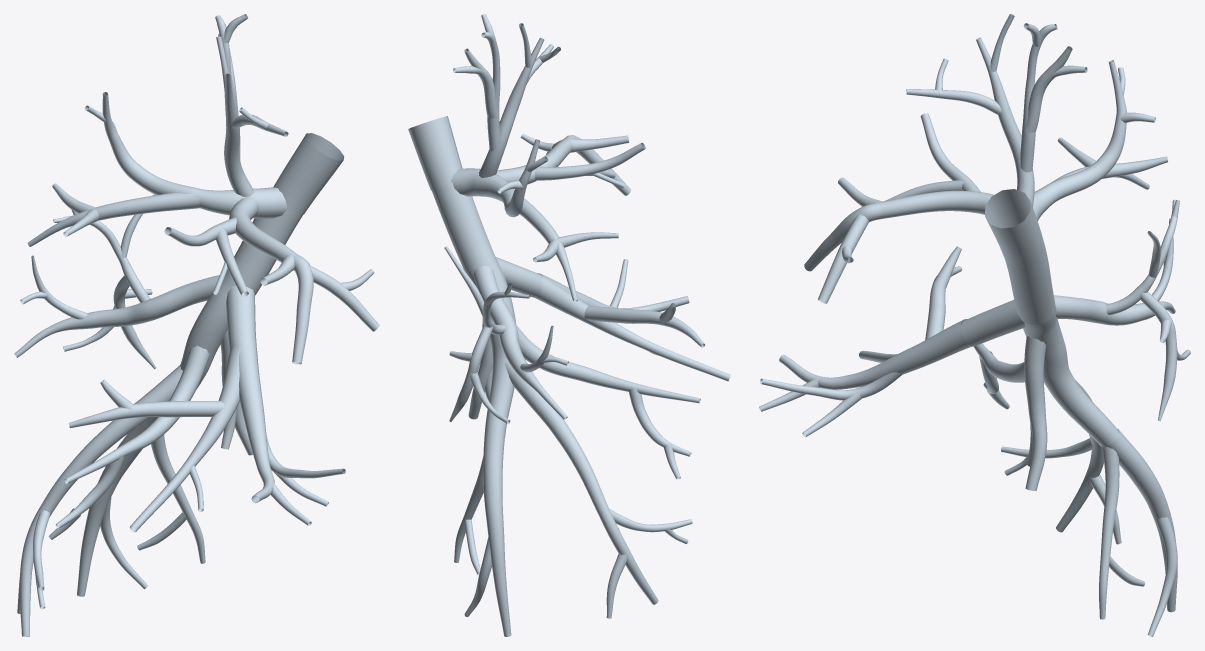
File: visceras-right-main-bronchus.glb
3 renders of one model, left to right at view 1: azimuth 30°, elevation 25°; view 2: azimuth 150°, elevation 25°; view 3: azimuth 270°, elevation 25°, orthographic. The views are drawn at different scales.
Parts seen in each view (by area): view 1: Superior segmental bronchus of right lung (BVI), Anterior segmental bronchus of right lung (BIII), Posterior segmental bronchus of right lung (BII), Lateral segmental bronchus of right lung (BIV), Lateral basal segmental bronchus of right lung (BIX), Posterior basal segmental bronchus of right lung (BX), Medial segmental bronchus of right lung (BV), Anterior basal segmental bronchus of right lung (BVIII), Apical segmental bronchus of right lung (BI), Right main bronchus, Intermediate bronchus.r, Right inferior lobar bronchus (+3 smaller); view 2: Superior segmental bronchus of right lung (BVI), Lateral basal segmental bronchus of right lung (BIX), Posterior basal segmental bronchus of right lung (BX), Lateral segmental bronchus of right lung (BIV), Apical segmental bronchus of right lung (BI), Anterior segmental bronchus of right lung (BIII), Posterior segmental bronchus of right lung (BII), Anterior basal segmental bronchus of right lung (BVIII), Intermediate bronchus.r, Right main bronchus, Right inferior lobar bronchus, Medial segmental bronchus of right lung (BV) (+3 smaller); view 3: Anterior segmental bronchus of right lung (BIII), Apical segmental bronchus of right lung (BI), Posterior basal segmental bronchus of right lung (BX), Medial segmental bronchus of right lung (BV), Superior segmental bronchus of right lung (BVI), Posterior segmental bronchus of right lung (BII), Right inferior lobar bronchus, Right main bronchus, Medial basal segmental bronchus of right lung (BVII), Lateral basal segmental bronchus of right lung (BIX), Intermediate bronchus.r, Middle lobar bronchus.r (+2 smaller).
Boxes of the visible parts, x1,y1,x2,y2 form: Superior segmental bronchus of right lung (BVI): (14, 194, 219, 369); Anterior segmental bronchus of right lung (BIII): (164, 196, 379, 364); Posterior segmental bronchus of right lung (BII): (27, 92, 254, 246); Lateral segmental bronchus of right lung (BIV): (68, 344, 248, 532); Lateral basal segmental bronchus of right lung (BIX): (17, 365, 182, 636); Posterior basal segmental bronchus of right lung (BX): (77, 421, 205, 596); Medial segmental bronchus of right lung (BV): (232, 344, 345, 525); Anterior basal segmental bronchus of right lung (BVIII): (48, 346, 209, 539); Apical segmental bronchus of right lung (BI): (215, 14, 288, 196); Right main bronchus: (273, 133, 344, 214); Intermediate bronchus.r: (225, 208, 302, 295); Right inferior lobar bronchus: (146, 277, 235, 425); Superior segmental bronchus of right lung (BVI): (444, 246, 568, 424); Lateral basal segmental bronchus of right lung (BIX): (505, 359, 692, 618); Posterior basal segmental bronchus of right lung (BX): (454, 433, 511, 636); Lateral segmental bronchus of right lung (BIV): (534, 274, 730, 381); Apical segmental bronchus of right lung (BI): (453, 14, 560, 177); Anterior segmental bronchus of right lung (BIII): (496, 133, 645, 195); Posterior segmental bronchus of right lung (BII): (474, 139, 618, 301); Anterior basal segmental bronchus of right lung (BVIII): (516, 325, 700, 479); Intermediate bronchus.r: (431, 182, 495, 272); Right main bronchus: (408, 116, 462, 190); Right inferior lobar bronchus: (466, 259, 516, 436); Medial segmental bronchus of right lung (BV): (537, 259, 689, 311); Anterior segmental bronchus of right lung (BIII): (804, 113, 993, 303); Apical segmental bronchus of right lung (BI): (906, 14, 1087, 206); Posterior basal segmental bronchus of right lung (BX): (1099, 429, 1177, 636); Medial segmental bronchus of right lung (BV): (759, 319, 971, 437); Superior segmental bronchus of right lung (BVI): (1053, 199, 1190, 421); Posterior segmental bronchus of right lung (BII): (1033, 60, 1168, 220); Right inferior lobar bronchus: (1023, 303, 1118, 446); Right main bronchus: (985, 189, 1044, 267); Medial basal segmental bronchus of right lung (BVII): (1024, 336, 1047, 490); Lateral basal segmental bronchus of right lung (BIX): (1001, 380, 1121, 544); Intermediate bronchus.r: (1004, 244, 1055, 324); Middle lobar bronchus.r: (961, 300, 1025, 346).
Size of the model in its own units: 0.1298 by 0.2471 by 0.1521.
